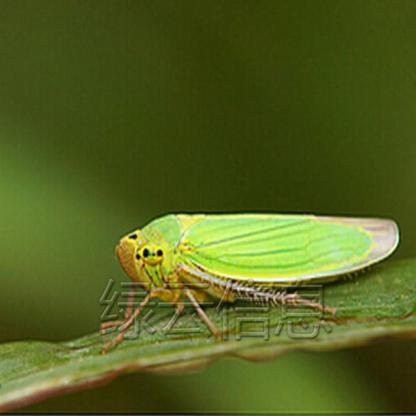Green-Leafhopper: (106, 209, 400, 346)
